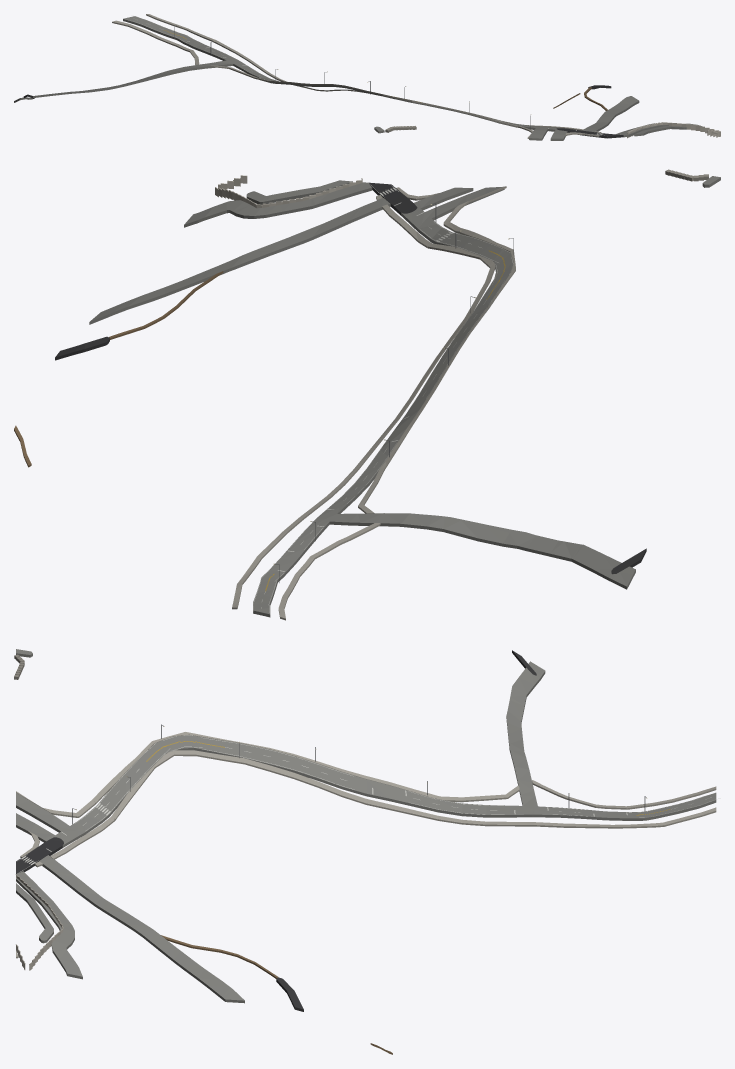
3 views of the same model, one above another, from view 1: azimuth 30°, elevation 25°; view 2: azimuth 150°, elevation 25°; view 3: azimuth 270°, elevation 25° (orthographic). The views are drawn at different scales.
Bounding box in the file's own units: 293 × 96 × 294.
